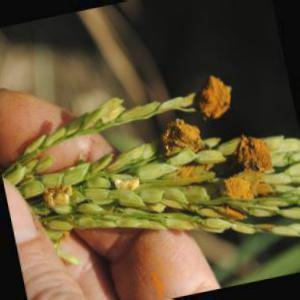Leaf_Scald: (230, 132, 264, 210), (172, 118, 204, 159), (199, 79, 231, 119), (51, 182, 73, 214)
